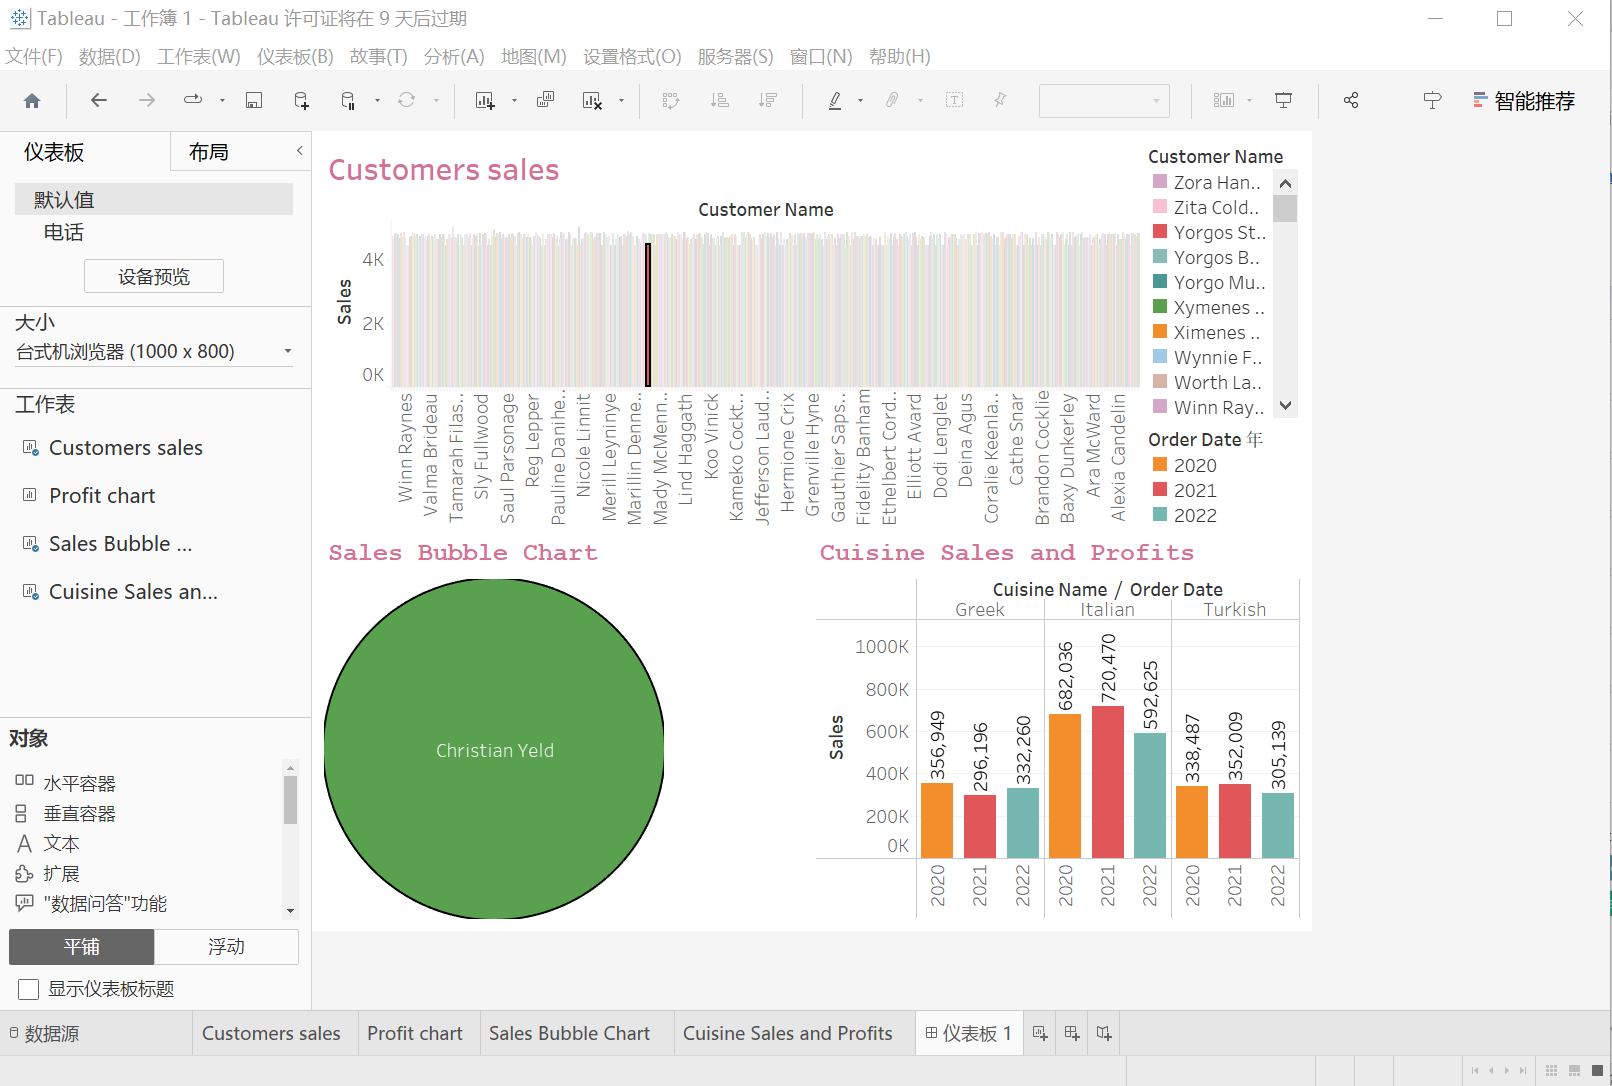

Layout of this report page (visuals, bound fields, positions):
{"tool":"tableau","page":{"name":"仪表板 1","canvas":[1000,800],"ordinal":0},"visuals":[{"type":"worksheet","title":"Customers sales","mark":"Automatic","rows":["Sales"],"cols":["Customer Name"],"box":[8,8,824,392]},{"type":"legend","title":"Customers sales","param":"[federated.1nv6xea1lmkz7c184gqf319yr1ek].[none:Customer Name:nk]","box":[832,8,160,283]},{"type":"legend","title":"Cuisine Sales and Profits","param":"[federated.1nv6xea1lmkz7c184gqf319yr1ek].[yr:Order Date:ok]","box":[832,291,160,109]},{"type":"worksheet","title":"Sales Bubble Chart ","mark":"Circle","box":[8,400,492,392]},{"type":"worksheet","title":"Cuisine Sales and Profits","mark":"Bar","rows":["Sales"],"cols":["Cuisine Name","Order Date"],"box":[500,400,492,392]}]}

Visuals, with their boxes on the page's 1000x800 design canvas (x1, y1, x2, y2). These are canvas units, not pixel positions in the 1612x1086 screenshot, which may show the page scaled, cropped or inside an application window:
"Customers sales" worksheet: 8,8,832,400
"Customers sales" legend: 832,8,992,291
"Cuisine Sales and Profits" legend: 832,291,992,400
"Sales Bubble Chart " worksheet (Circle marks): 8,400,500,792
"Cuisine Sales and Profits" worksheet (Bar marks): 500,400,992,792
